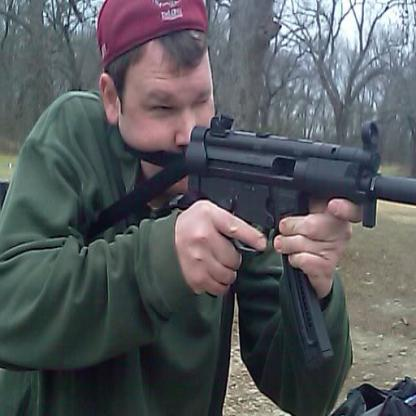gun: (179, 107, 415, 373)
